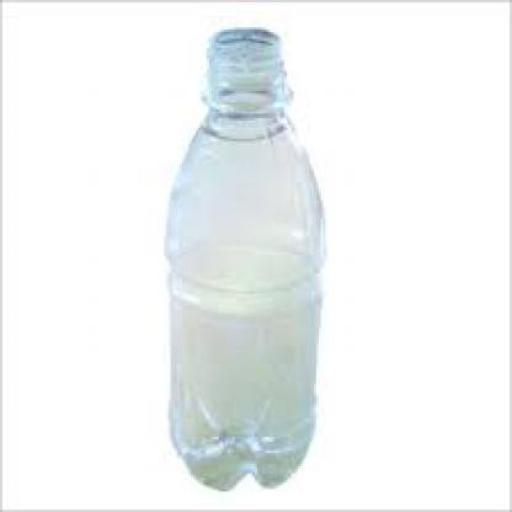plastic: (166, 27, 324, 487)
